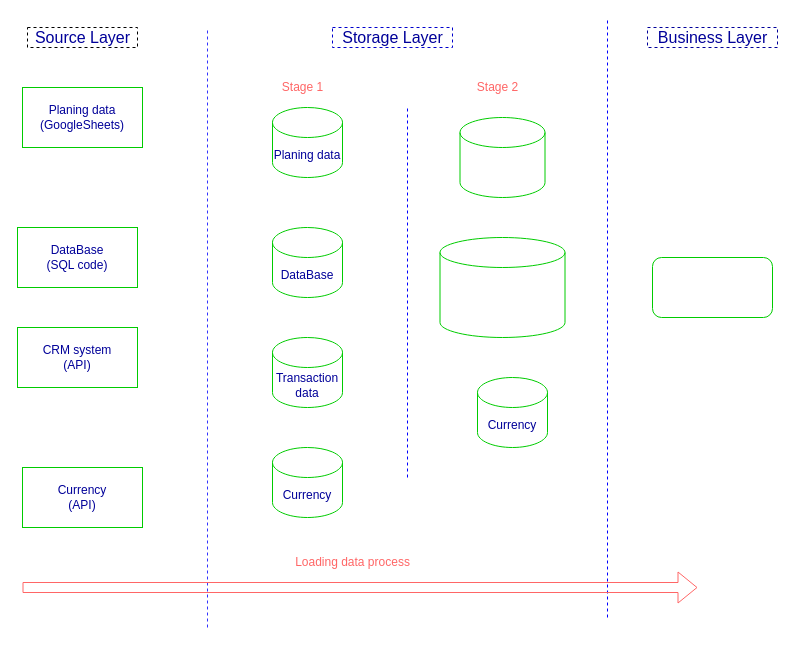
The diagram is 795 pixels wide and 646 high, and some of its shapes have lost their labels. The centre of each missing label's shape, as x and y in pixels:
BI visual solution (direct qwery): point 712,287
Data fact: point 502,287
Data plan: point 502,157
